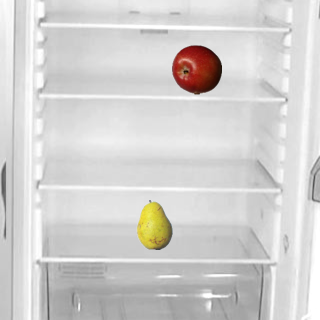Apple Braeburn: (171, 44, 221, 94)
Pear Monster: (129, 199, 179, 249)
